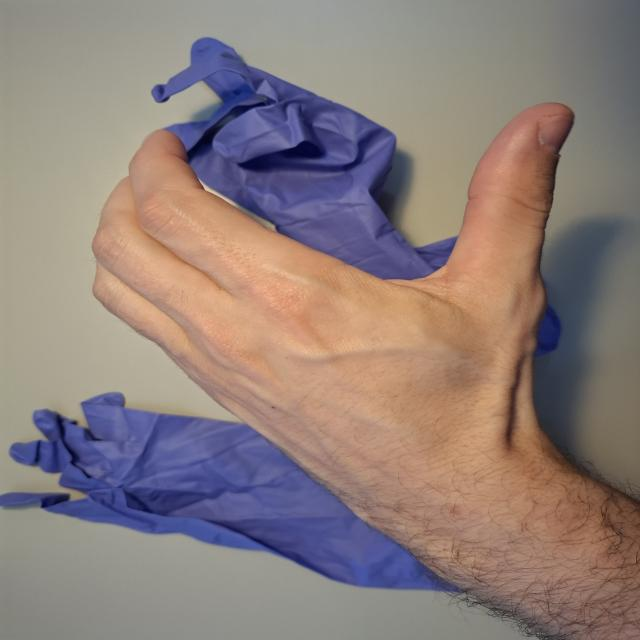glove_off: (88, 98, 579, 513)
